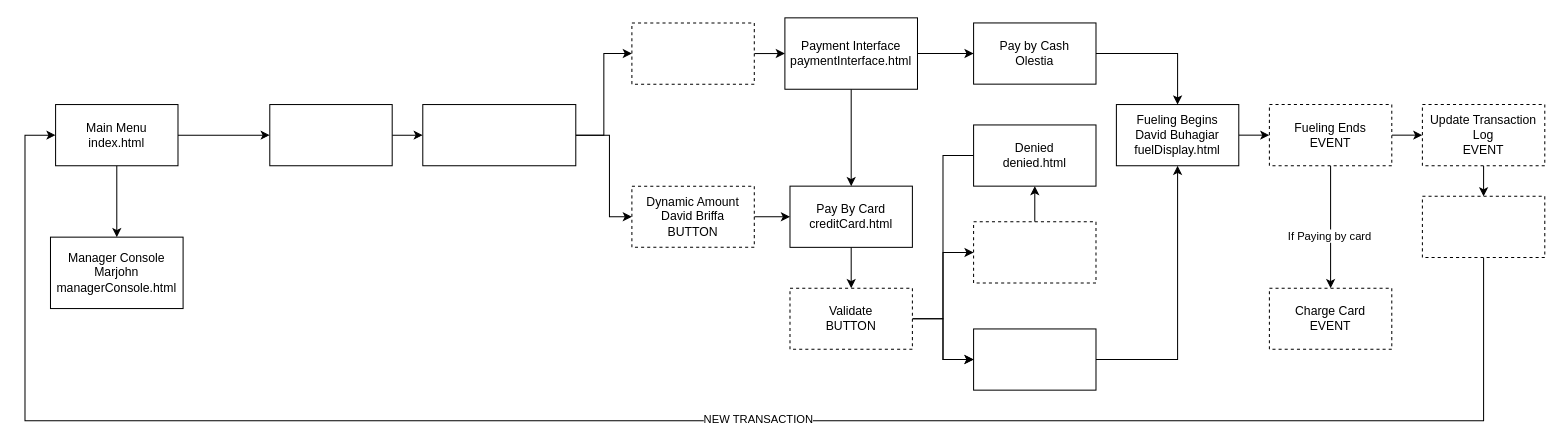
This 1563x447 diagram has some shape labels left out. The shapes that lost their labels are listed below. From the top down, each one's box as (x1, y1, x2, y2) in pixels, then its label:
(631, 22, 754, 84): Static Amount BUTTON
(269, 104, 392, 166): Fuel Selection Timmy gradeSelect.html
(422, 104, 576, 166): Payment Selection fixedDynamicPayment.html
(1421, 195, 1545, 258): End of Transaction EVENT
(973, 221, 1096, 283): Failed EVENT
(973, 328, 1096, 390): Accepted accepted.html
